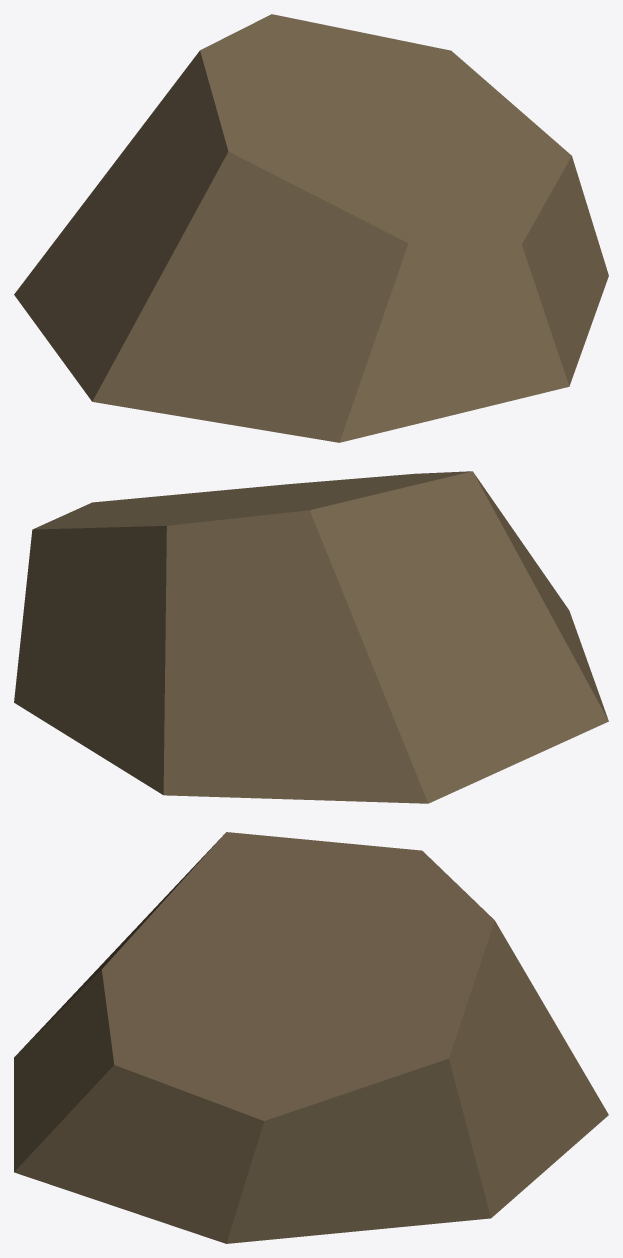
The model's file is Tree_Cut_1.fbx.
3 views of the same model, one above another, from view 1: azimuth 30°, elevation 25°; view 2: azimuth 150°, elevation 25°; view 3: azimuth 270°, elevation 25° (orthographic). The views are drawn at different scales.
Visible parts, largest first — view 1: Wood.002; view 2: Wood.002; view 3: Wood.002.
Part boxes in pixels (x1=…): Wood.002: x1=14, y1=14, x2=608, y2=442; Wood.002: x1=14, y1=471, x2=608, y2=803; Wood.002: x1=14, y1=832, x2=608, y2=1243.
Bounding box in the file's own units: 134 × 57.58 × 131.
